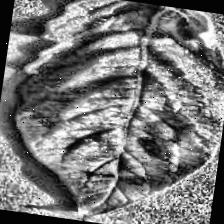spider mites: (5, 0, 224, 224)
